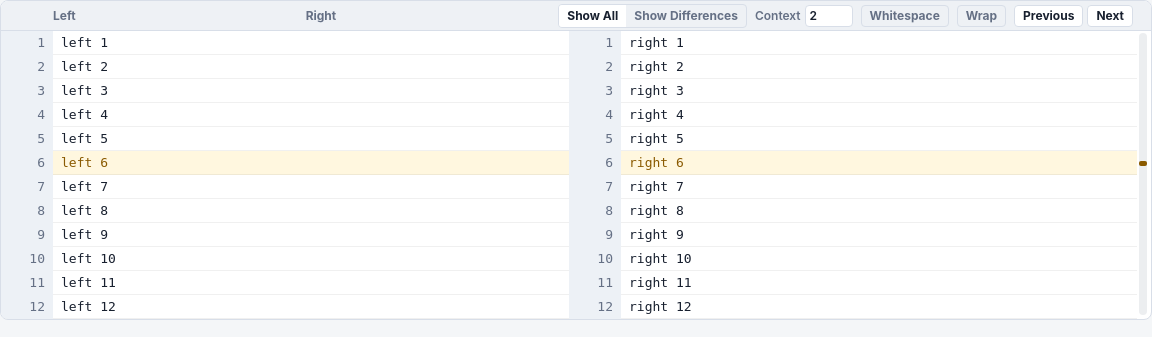
TextDiffPanel › updates difference context rows from the toolbar input
Click the button with test id "text-diff-show-differences" at (686, 16), box [626, 4, 746, 26]
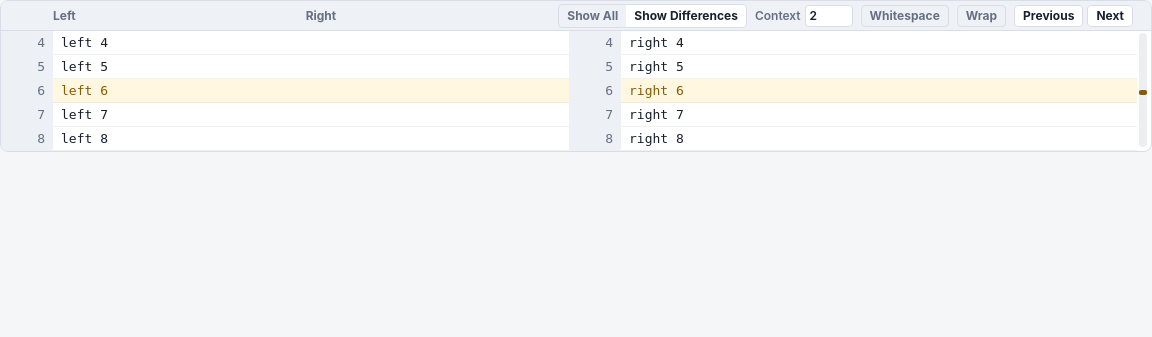
Expected: the text "left 4" is shown, [61, 35, 108, 50]
Expected: the text "left 8" is shown, [61, 131, 108, 146]
Replace the text in the number field with test id "text-diff-context-lines" with "1" at (829, 16), box [805, 4, 853, 26]
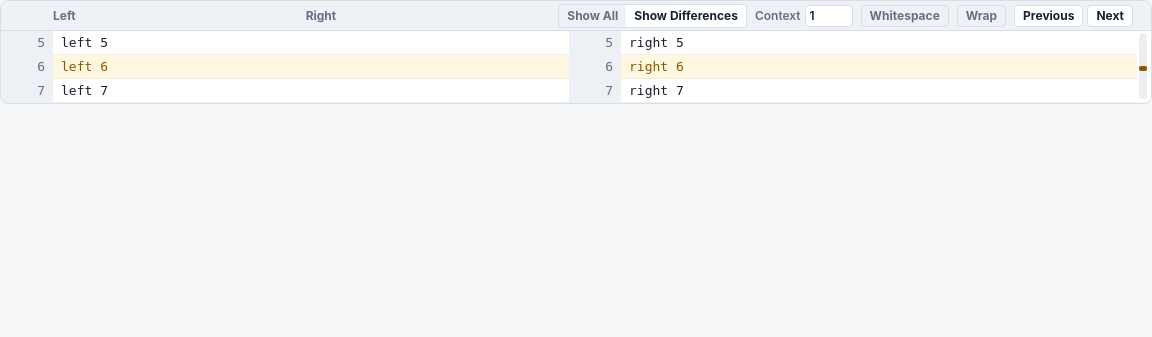
Expected: the text "left 5" is shown, [61, 35, 108, 50]
Result: the text "left 4" is gone
Result: the text "left 8" is gone
